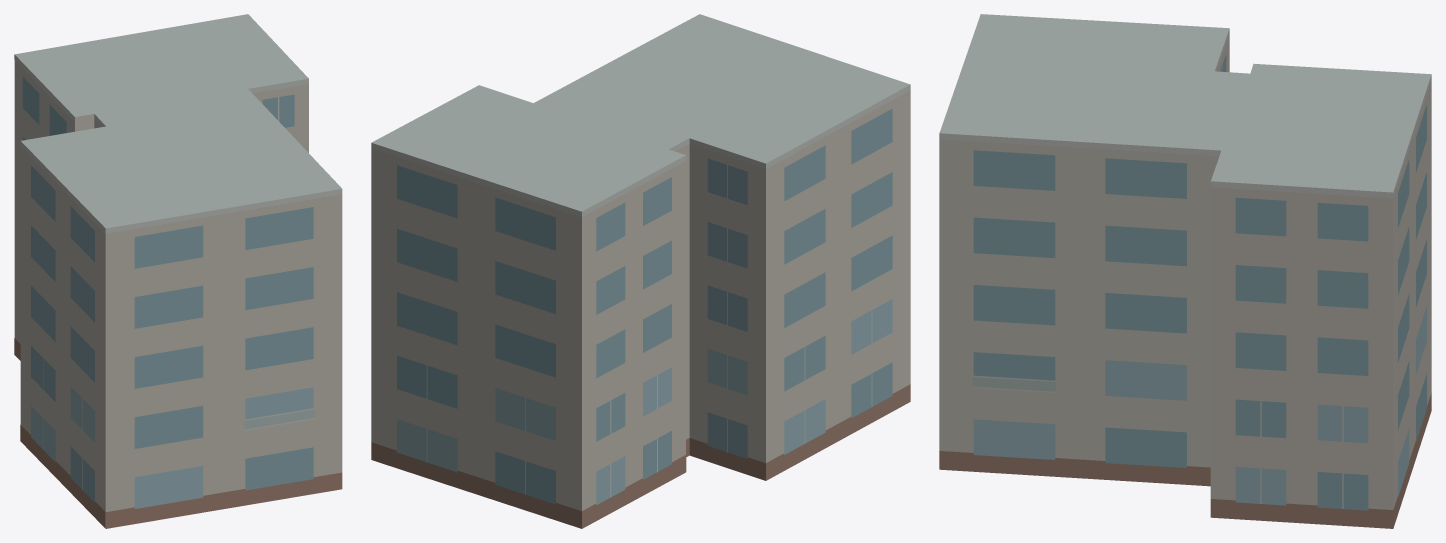
File: survey-upis-32660017.glb
3 views of the same model, side by side, from view 1: azimuth 30°, elevation 25°; view 2: azimuth 150°, elevation 25°; view 3: azimuth 270°, elevation 25° (orthographic). The views are drawn at different scales.
Parts seen in each view (by area): view 1: survey-upis-32660017.tmp; view 2: survey-upis-32660017.tmp; view 3: survey-upis-32660017.tmp.
Part boxes in pixels (box(x1,y1,x2,y2)): survey-upis-32660017.tmp: box(14, 14, 342, 528); survey-upis-32660017.tmp: box(371, 14, 910, 528); survey-upis-32660017.tmp: box(939, 14, 1431, 528).
Bounding box in the file's own units: 15.83 × 13.9 × 18.44.
